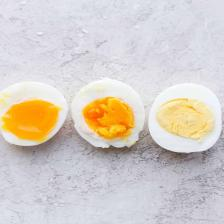egg: (68, 77, 147, 149), (146, 82, 223, 154), (0, 80, 70, 148)
